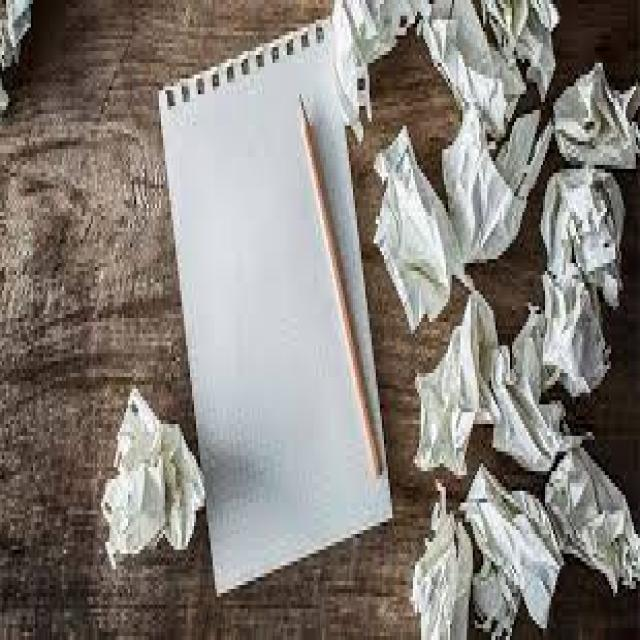crampled paper: (374, 126, 464, 329), (103, 390, 205, 562), (461, 466, 563, 638), (417, 0, 525, 140), (415, 292, 497, 475), (493, 307, 581, 472), (545, 447, 640, 594), (443, 107, 524, 263), (540, 166, 625, 307), (413, 485, 473, 639), (554, 62, 637, 169), (543, 271, 610, 397), (515, 0, 560, 101)
